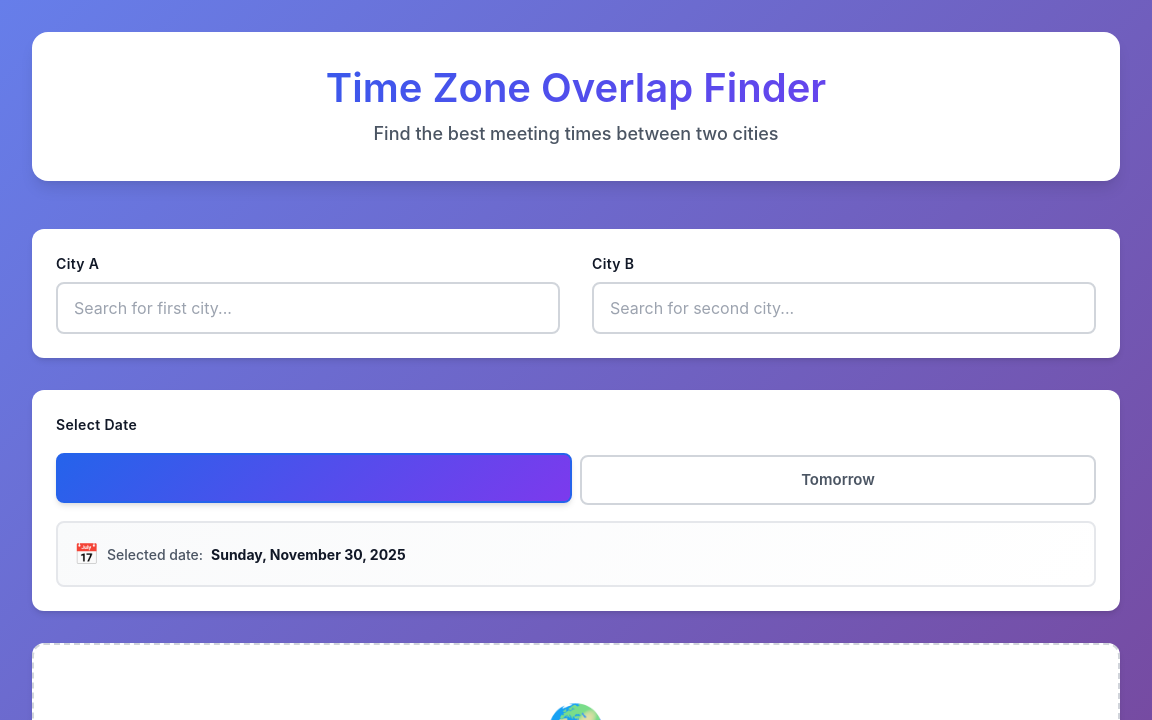
Test: App - End-to-End Integration Tests › should handle error gracefully when invalid city is entered
Enter invalid city name
In the field named "search for city a": (308, 308) [56,282,560,334], type "InvalidCityXYZ123"
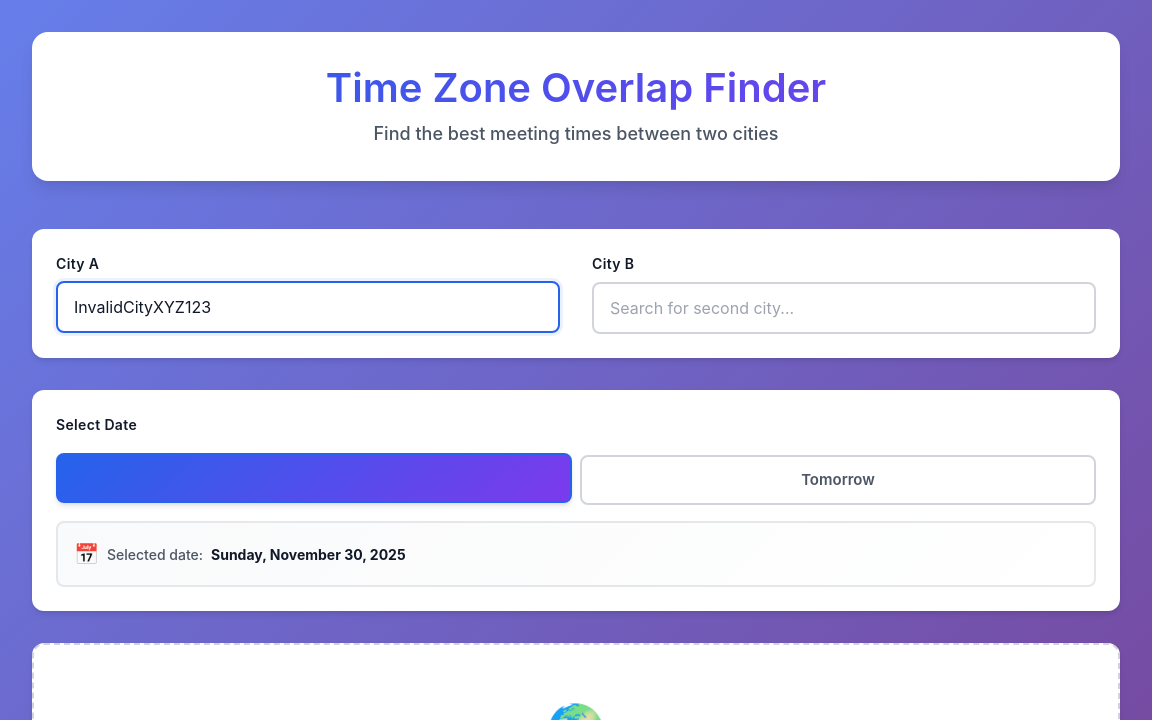
Blur the input to trigger validation
Press Tab
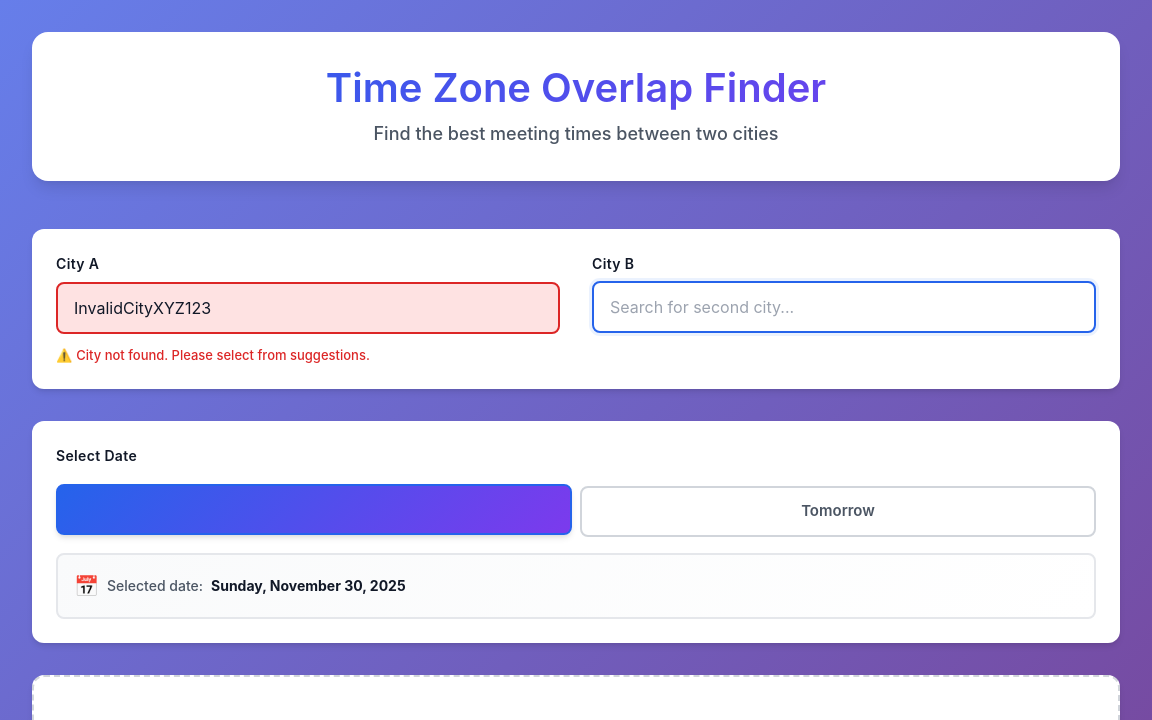
Result: the text "City not found. Please select from suggestions." is shown at [76,347,370,363]
